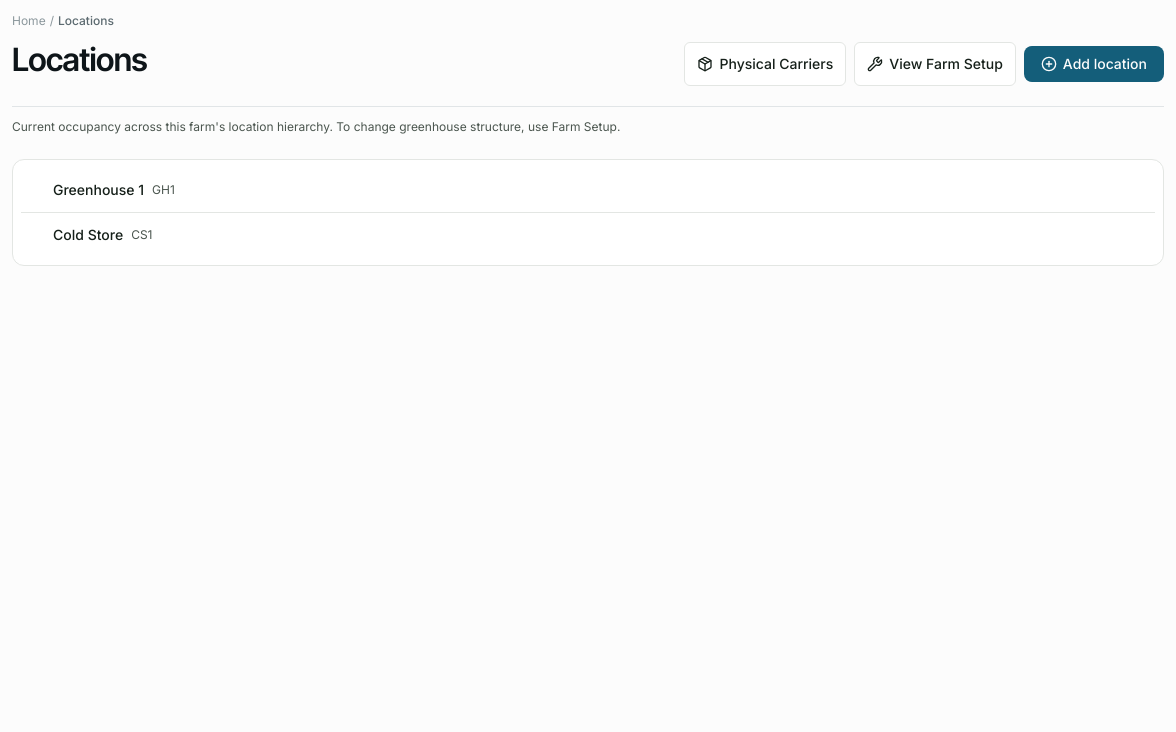
Scenario: LocationsPage › shows an Add Location affordance that opens the create form
This screenshot has width=1176, height=732.
Expected: the text "Greenhouse 1" is shown, [53, 180, 144, 200]
Click the button "Add location" at (1094, 64), box [1024, 46, 1164, 82]
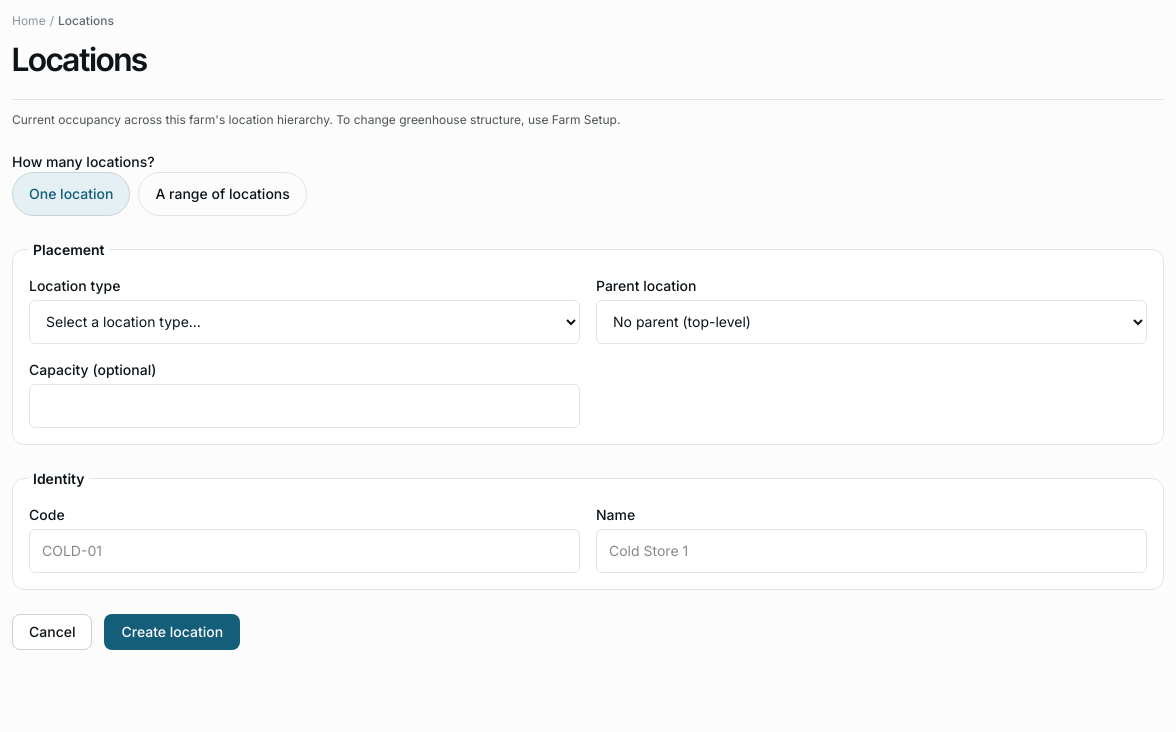
Now the text "Placement" is shown, box [29, 240, 109, 260]
